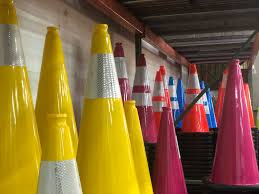cones: (82, 23, 137, 194), (1, 1, 44, 194), (204, 59, 259, 188), (30, 112, 82, 194), (34, 26, 71, 115), (130, 53, 159, 147), (180, 62, 210, 136), (113, 42, 132, 103), (151, 70, 163, 114)
